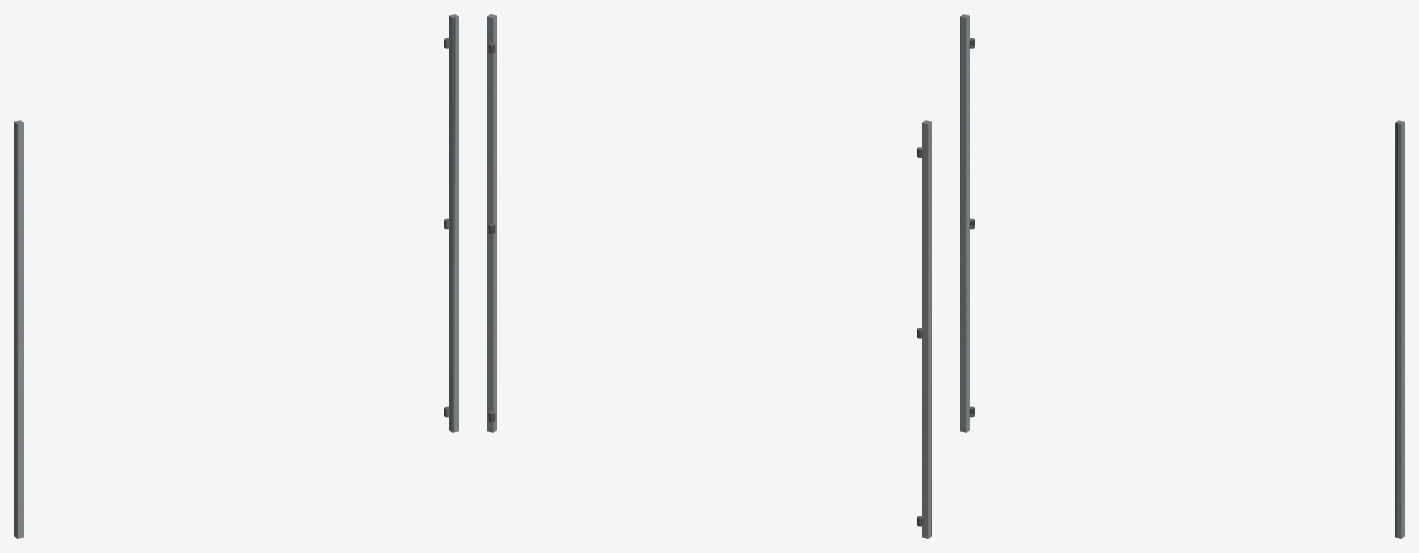
Rendered from EntranceDoorFrame.fbx.
The picture shows the model from 3 angles, left to right: view 1: azimuth 30°, elevation 25°; view 2: azimuth 150°, elevation 25°; view 3: azimuth 330°, elevation 25°; orthographic projection.
Visible parts, largest first — view 1: EntranceDoorFrame; view 2: EntranceDoorFrame; view 3: EntranceDoorFrame.
Part boxes in pixels (x1=…): EntranceDoorFrame: x1=14, y1=14, x2=458, y2=538; EntranceDoorFrame: x1=487, y1=14, x2=931, y2=538; EntranceDoorFrame: x1=960, y1=14, x2=1404, y2=538.
Size of the model in its own units: 381 by 342 by 9.96.
1 material, 1 textured.
